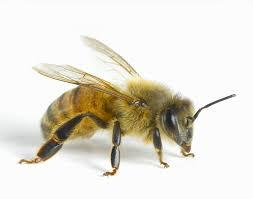Apis-mellifera-scutellata: (18, 30, 243, 187)
